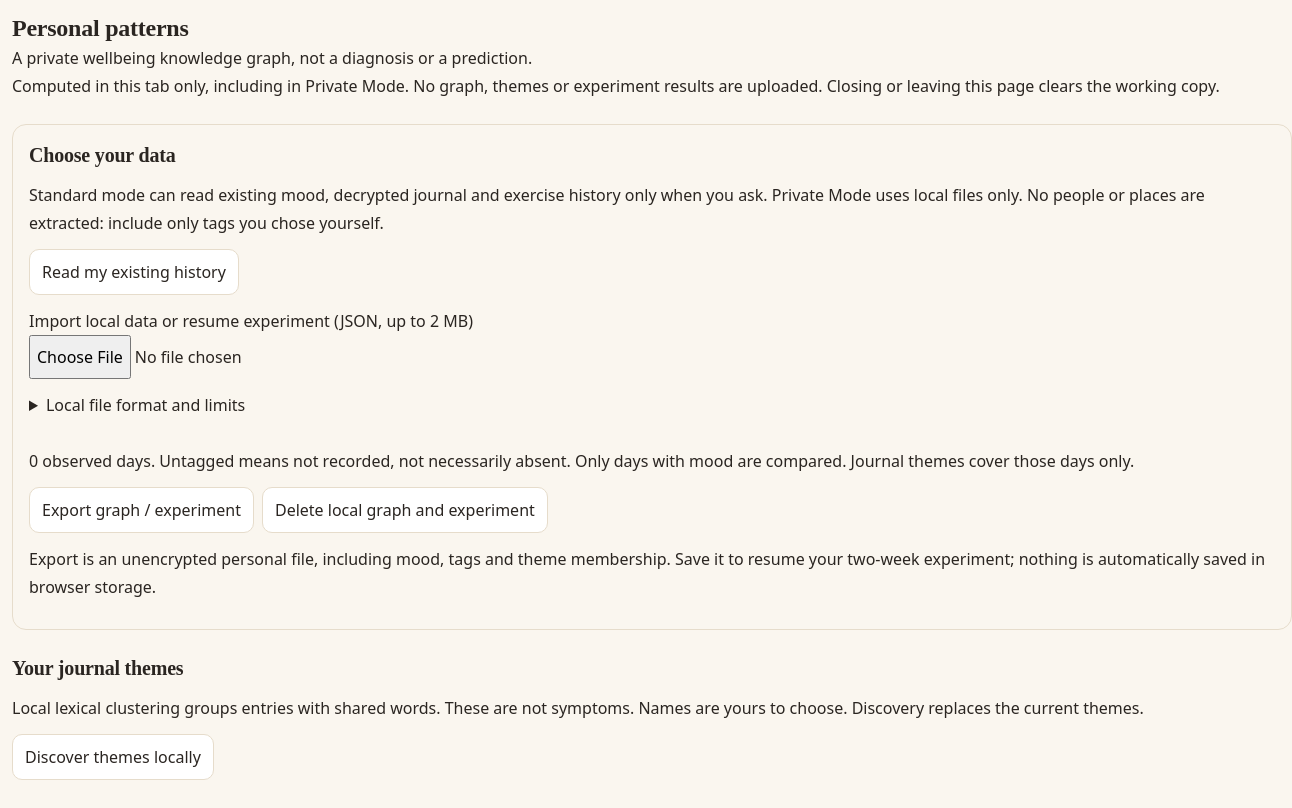
Test: delete prevents an in-flight source read from resurrecting working data
Click the button "Read my existing history" at (134, 272), box [29,249,239,295]
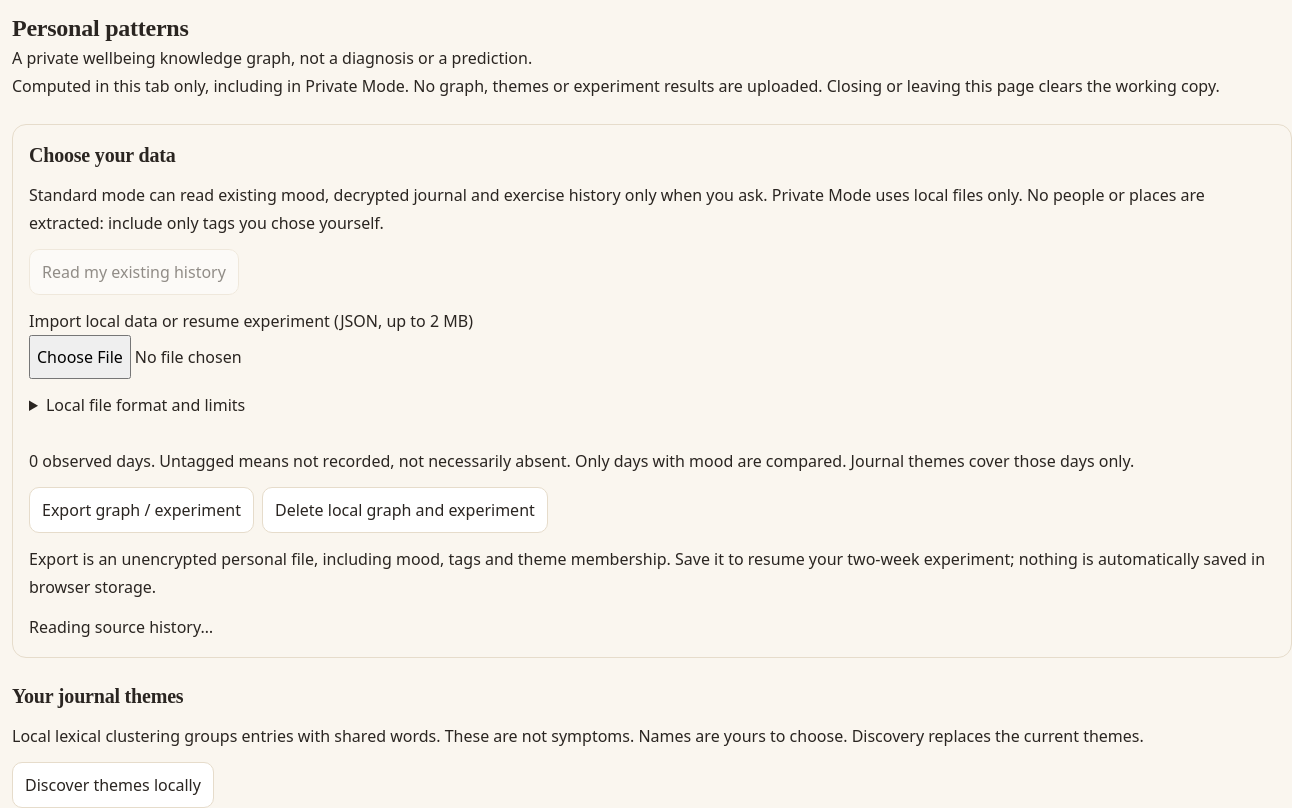
Click the button "Delete local graph and experiment" at (405, 510), box [262,487,548,533]
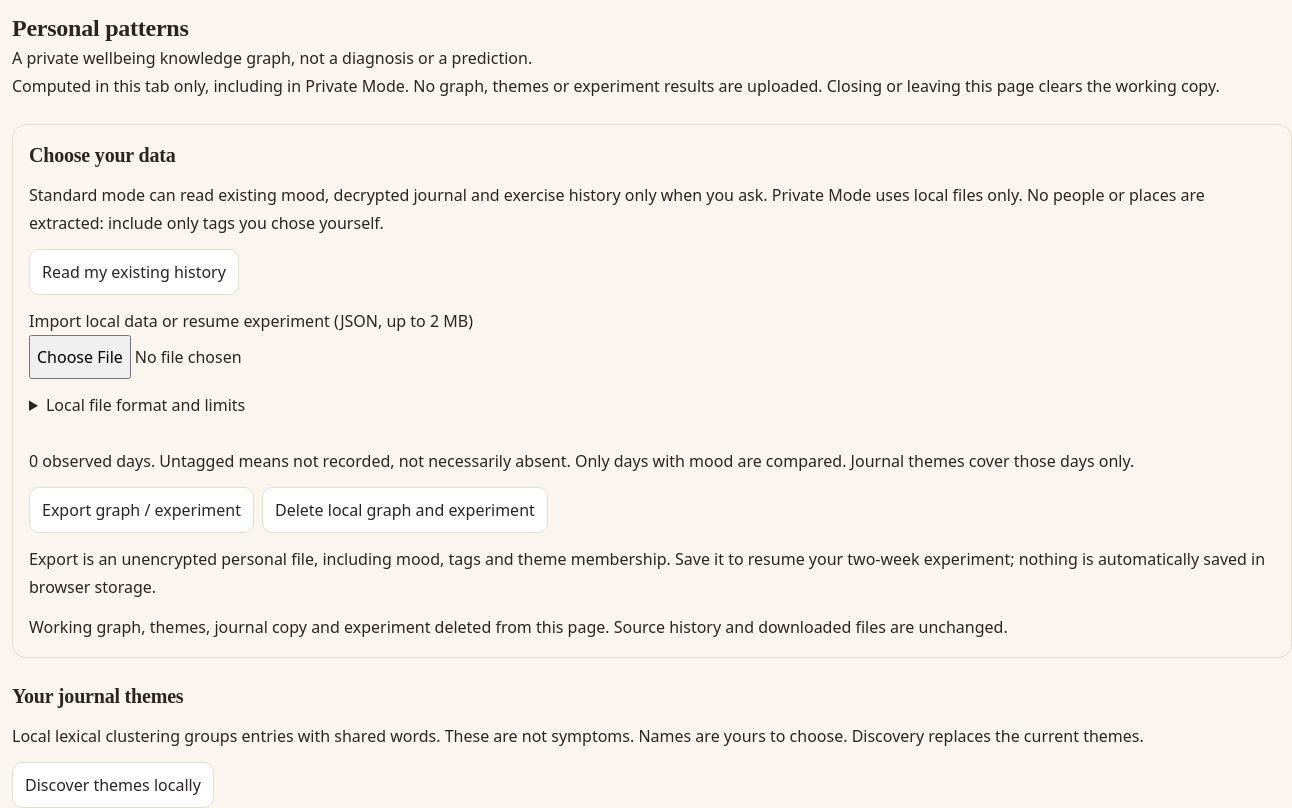
Check: the message shows "Working graph, themes, journal copy and experiment deleted", box [29,616,1008,638]
